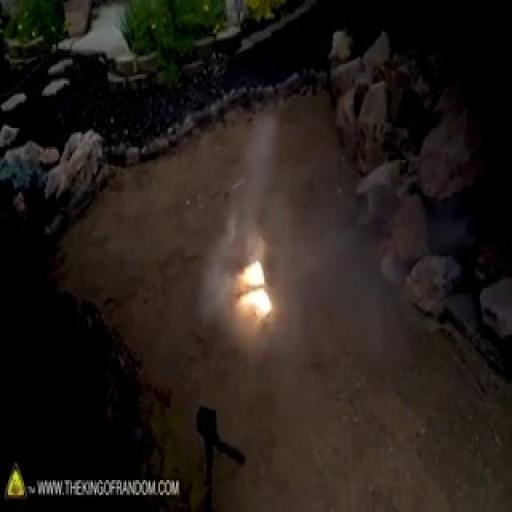smoke: (242, 245, 284, 327)
